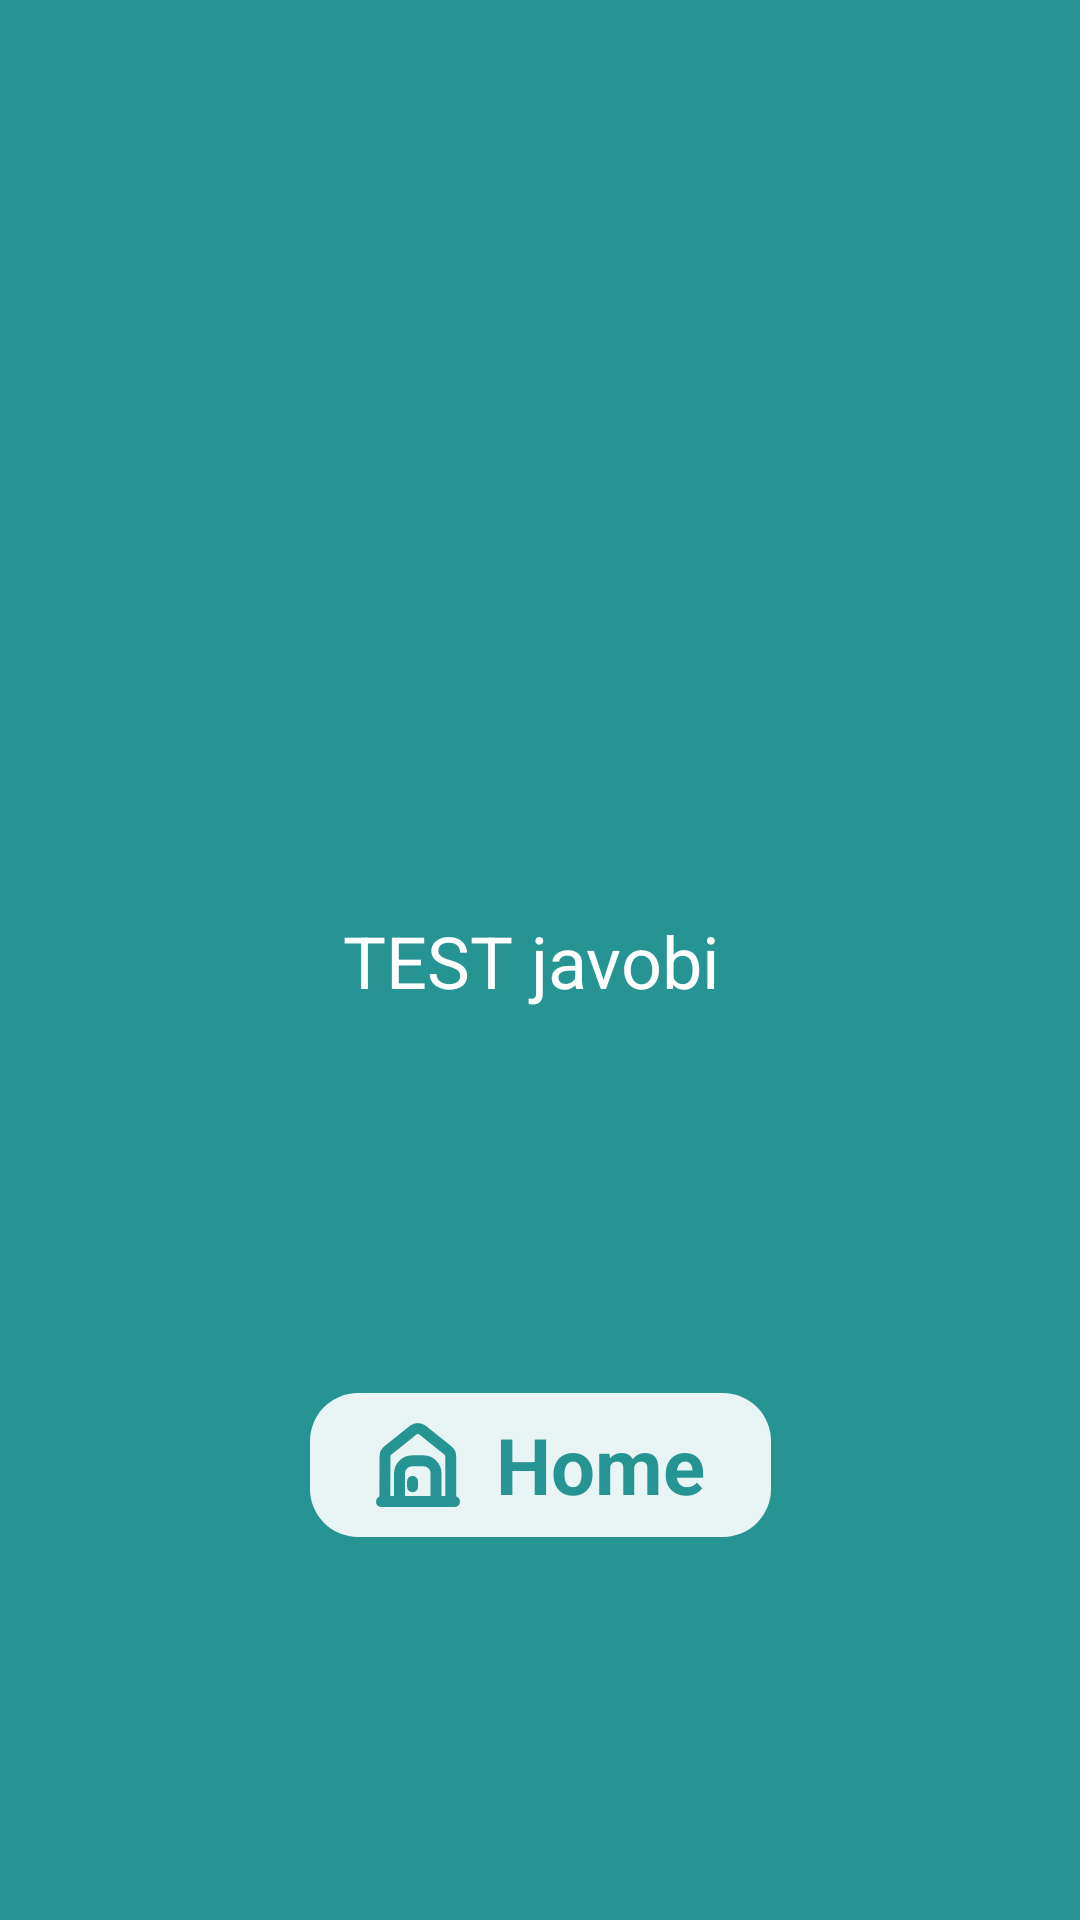

Where to tap for icons on this 1080 x 1920 app screen, as [x,y]:
house: [418,1465]
